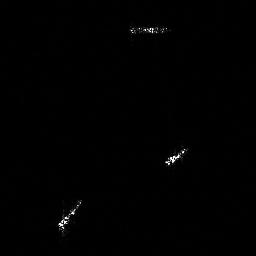ship: (57, 200, 83, 229), (164, 146, 188, 166), (131, 26, 168, 35)
